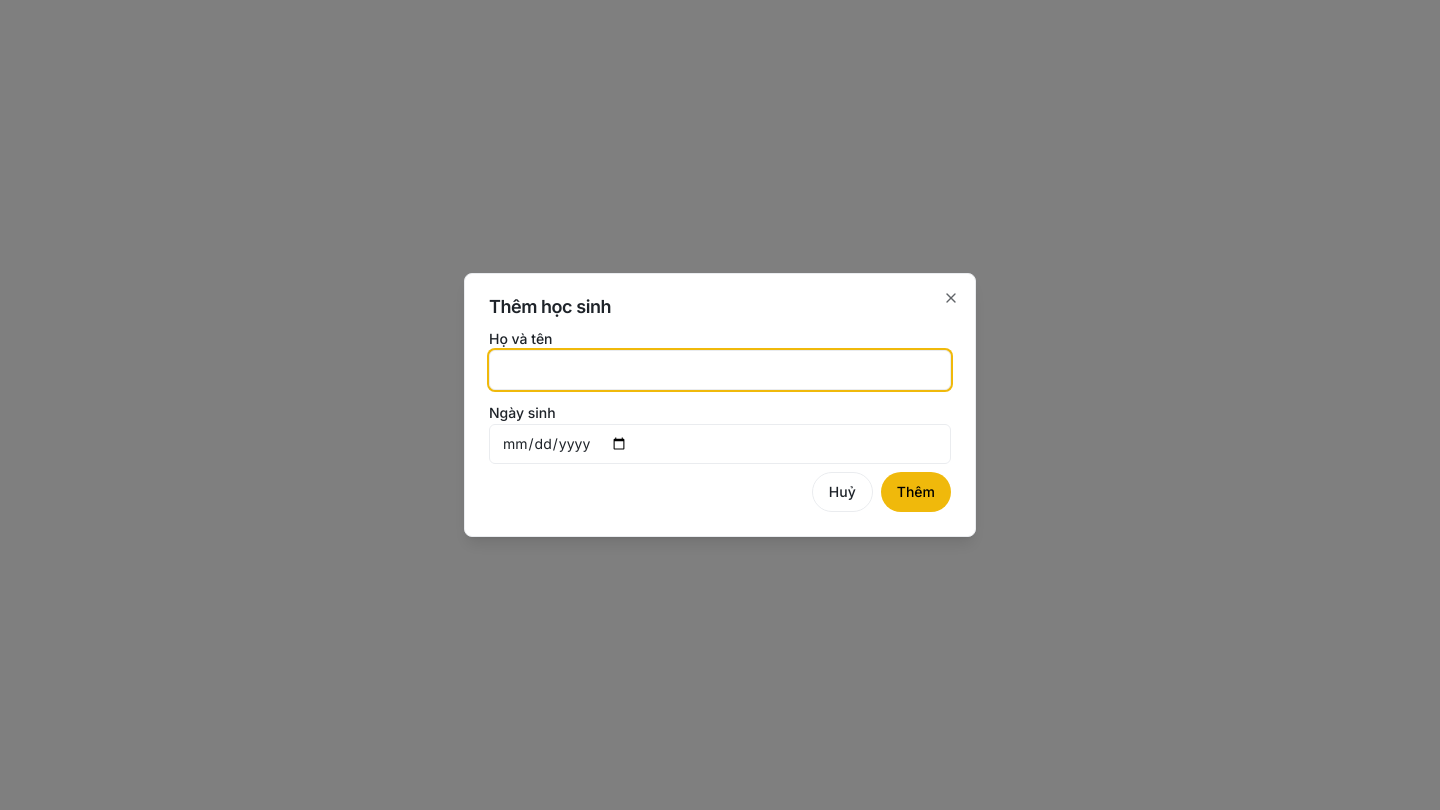
Scenario: submit thất bại hiện đúng error.data.message, KHÔNG đóng dialog (giữ nguyên để người dùng sửa lại)
Type "Nguyễn Văn D" into the field labelled "Họ và tên" at {"x": 720, "y": 370}, box [489,350,951,390]
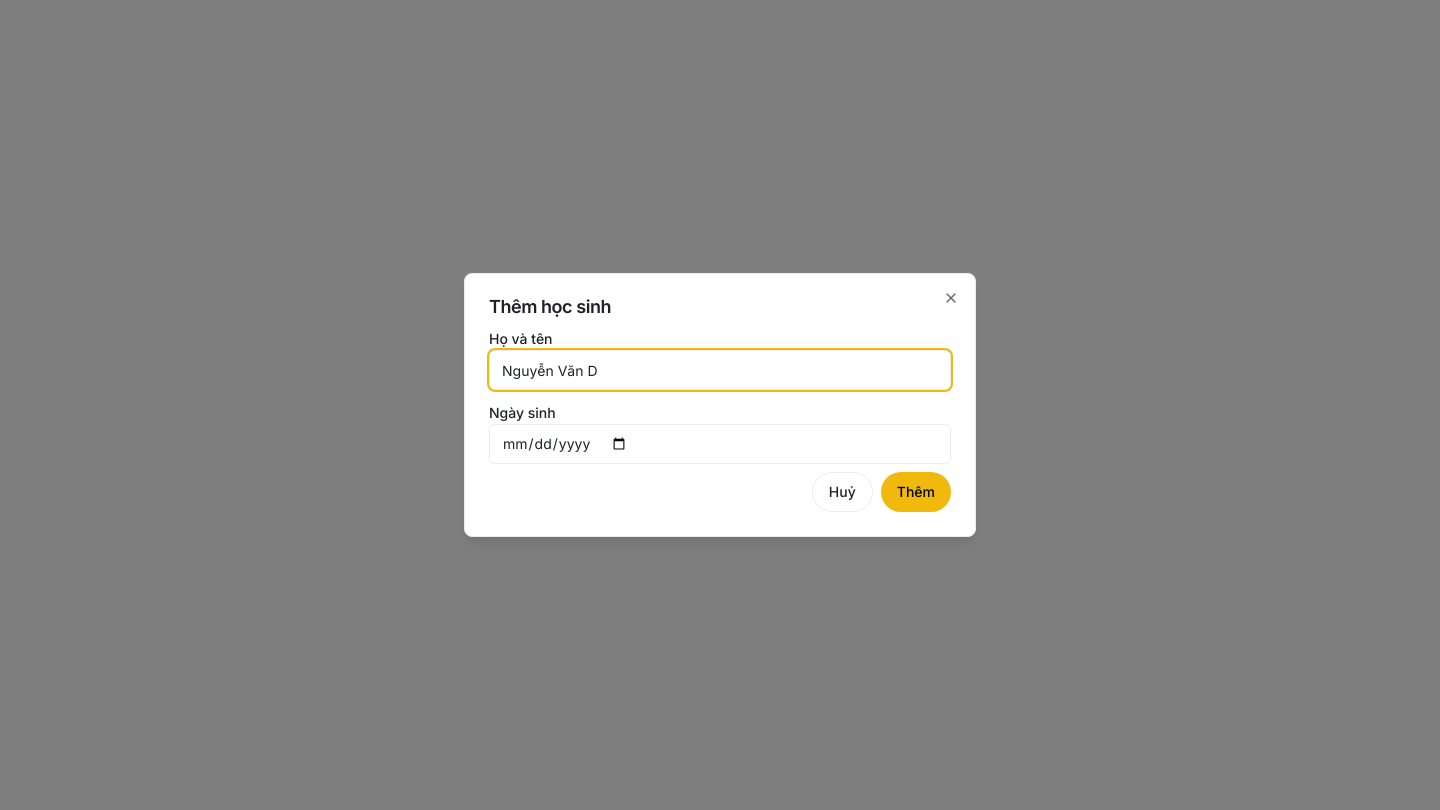
Click the button "Thêm" at {"x": 916, "y": 492}, box [881,472,951,512]
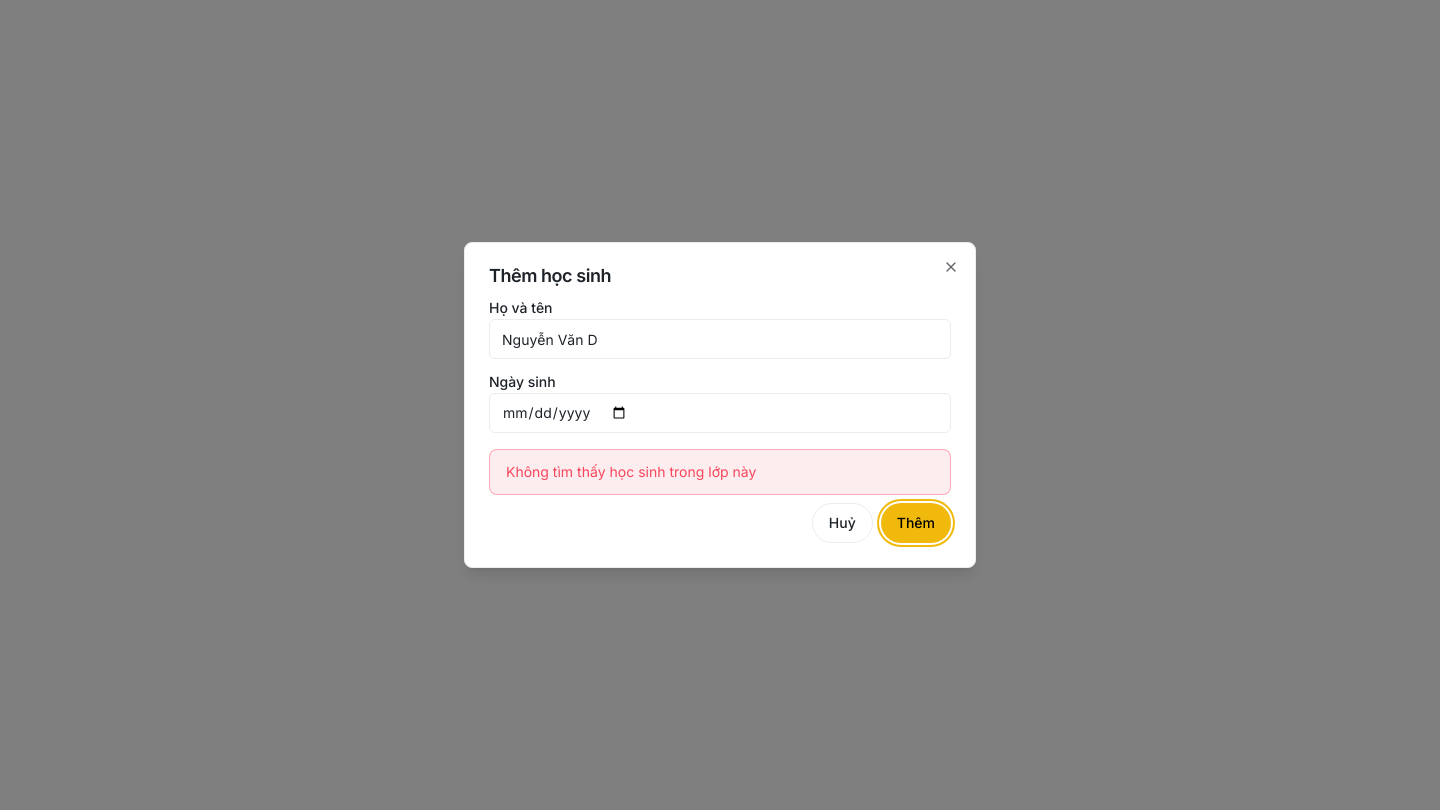
Expected: the text "Không tìm thấy học sinh trong lớp này" is shown, [506,463,756,480]
